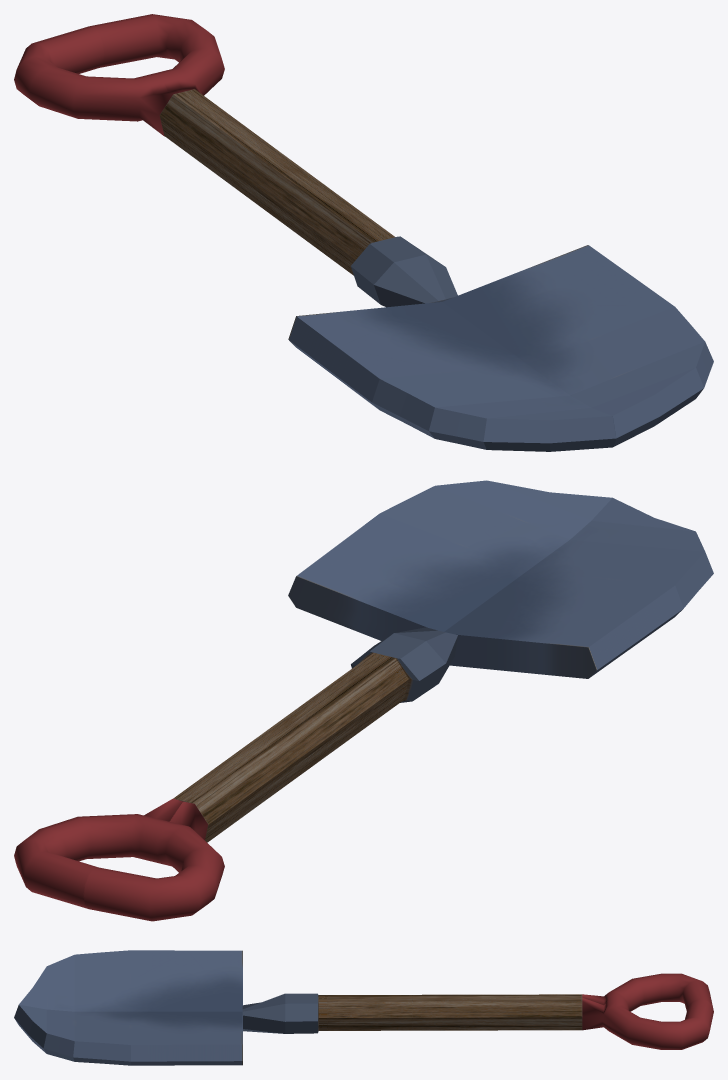
File: shovel.glb
3 renders of one model, top to bottom at view 1: azimuth 30°, elevation 25°; view 2: azimuth 150°, elevation 25°; view 3: azimuth 270°, elevation 25°, orthographic. The views are drawn at different scales.
Visible parts, largest first — view 1: Plane, Cylinder, Torus.001; view 2: Plane, Cylinder, Torus.001; view 3: Plane, Cylinder, Torus.001.
Part boxes in pixels (bbox=[...]): Plane: bbox=[288, 245, 713, 451]; Cylinder: bbox=[159, 89, 457, 307]; Torus.001: bbox=[14, 14, 224, 136]; Plane: bbox=[288, 480, 713, 678]; Cylinder: bbox=[173, 627, 457, 842]; Torus.001: bbox=[14, 798, 224, 921]; Plane: bbox=[14, 950, 242, 1065]; Cylinder: bbox=[242, 993, 582, 1033]; Torus.001: bbox=[582, 973, 713, 1049].
Size of the model in its own units: 2.11 by 0.3421 by 6.25.
3 materials, 3 textured.
